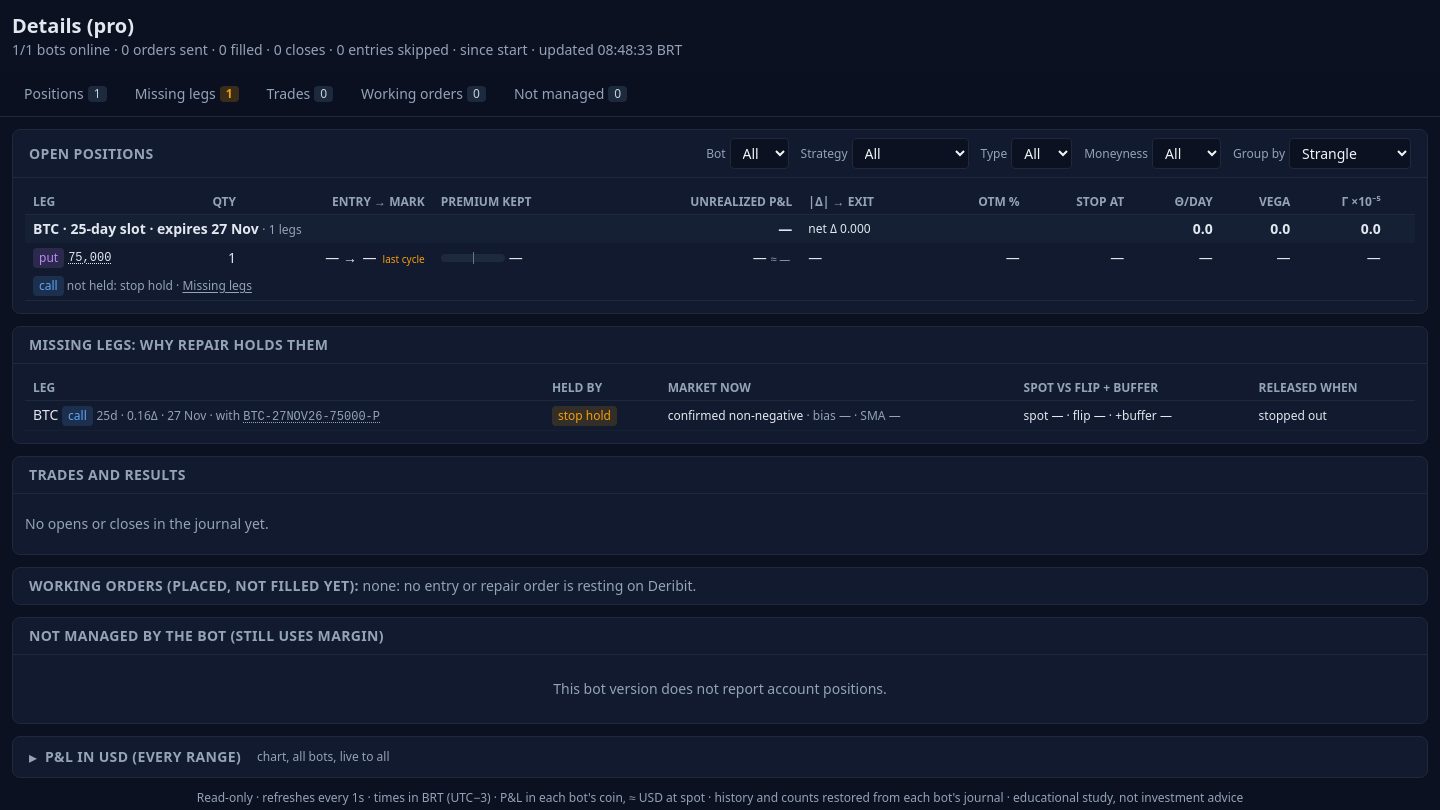
it: Scenario: open from a leg › a held leg opens its strangle's chart too
The width and height of the screenshot is (1440, 810).
What coordinates should you click on to do the following:
click the button "BTC-27NOV26-75000-P"
I would click on:
 (312, 417)
Its box is [243, 409, 380, 425].
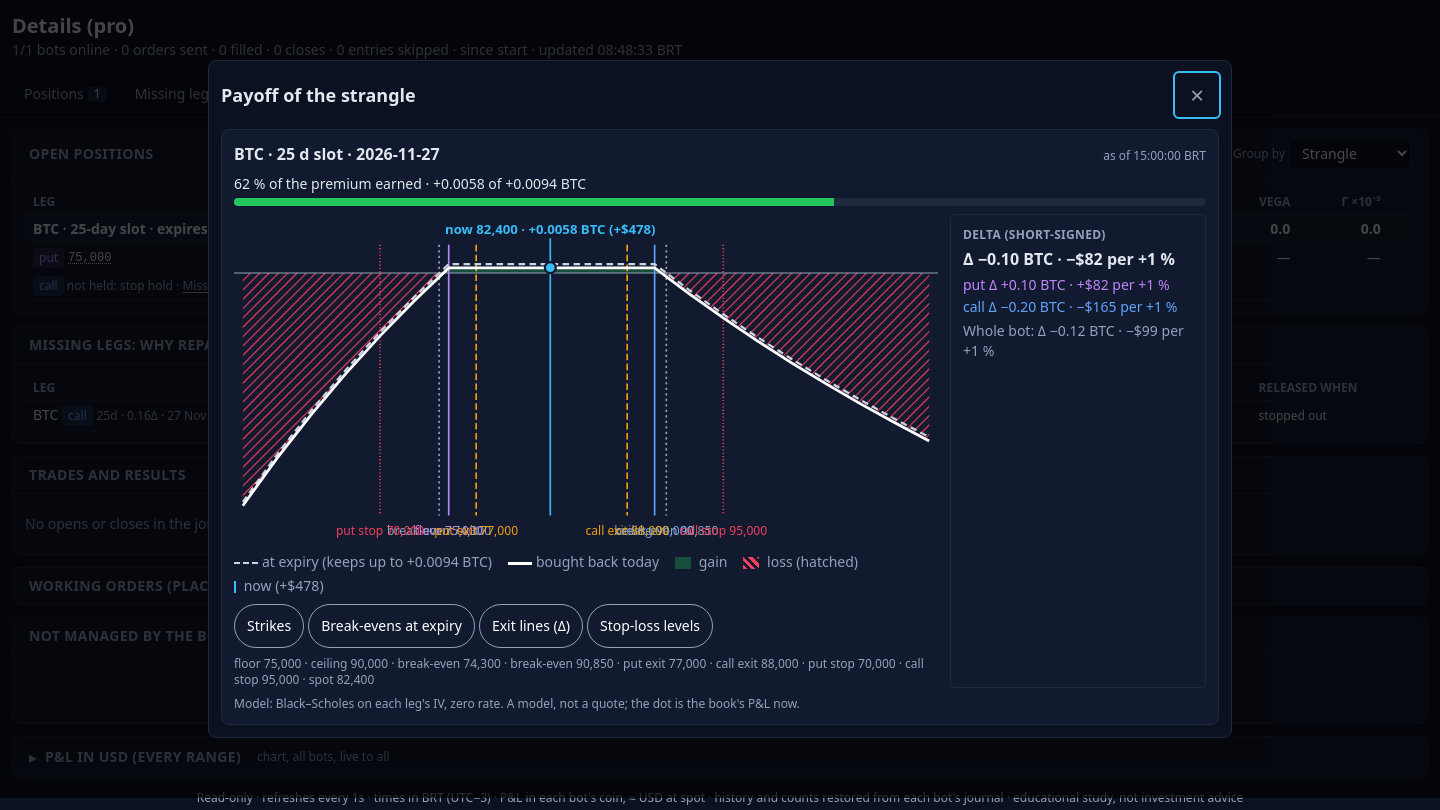
expect the heading "BTC · 25 d slot · 2026-11-27" is shown: met, box [234, 142, 440, 166]
